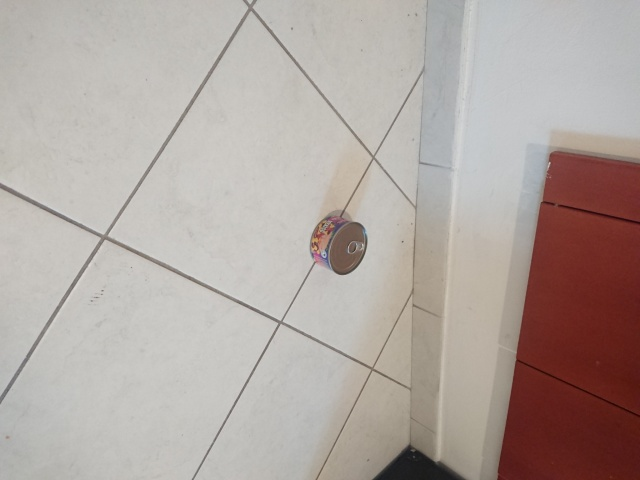Giana Tuna Salad Mexico 185g: (308, 214, 369, 277)
